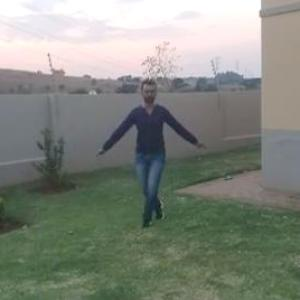land: (93, 68, 201, 231)
